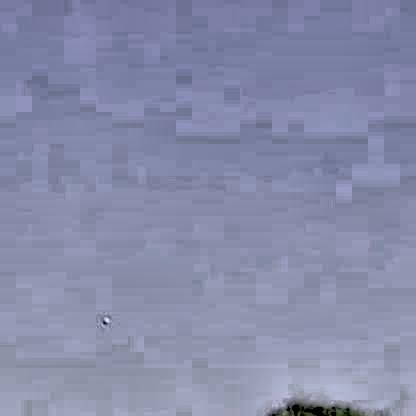golfball: (98, 315, 106, 322)
